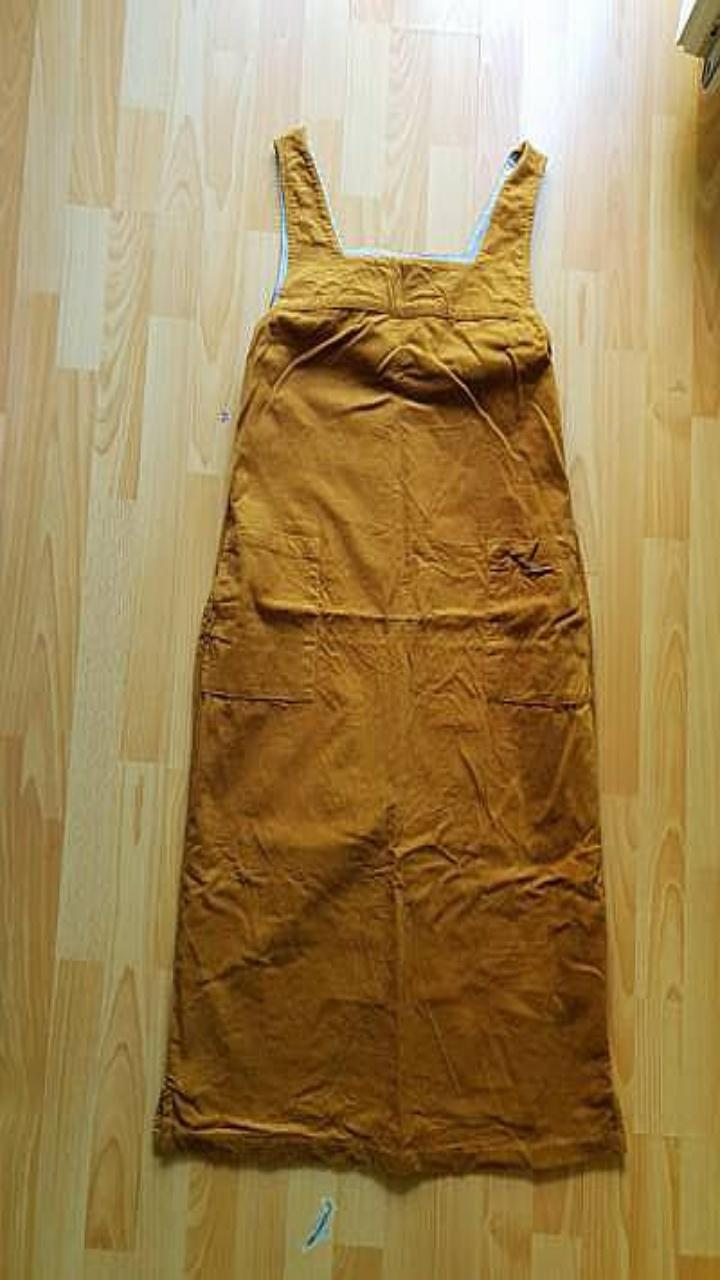Dresses: (153, 125, 624, 1173)
